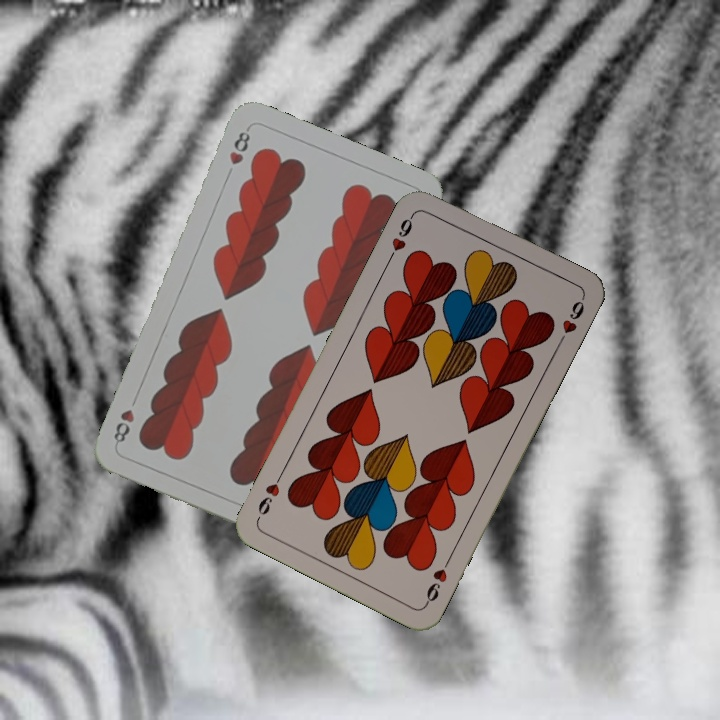H8: (225, 123, 253, 168)
H9: (384, 208, 418, 263), (421, 553, 454, 608)
